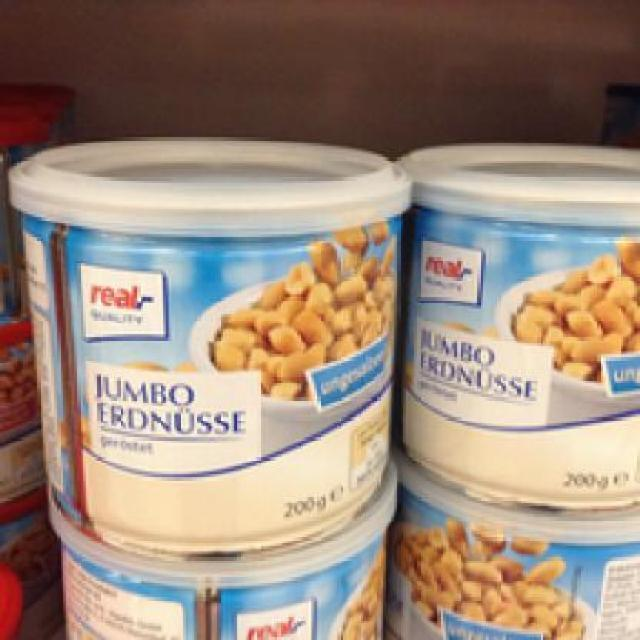Nuts: (2, 131, 412, 560), (397, 139, 637, 512)
